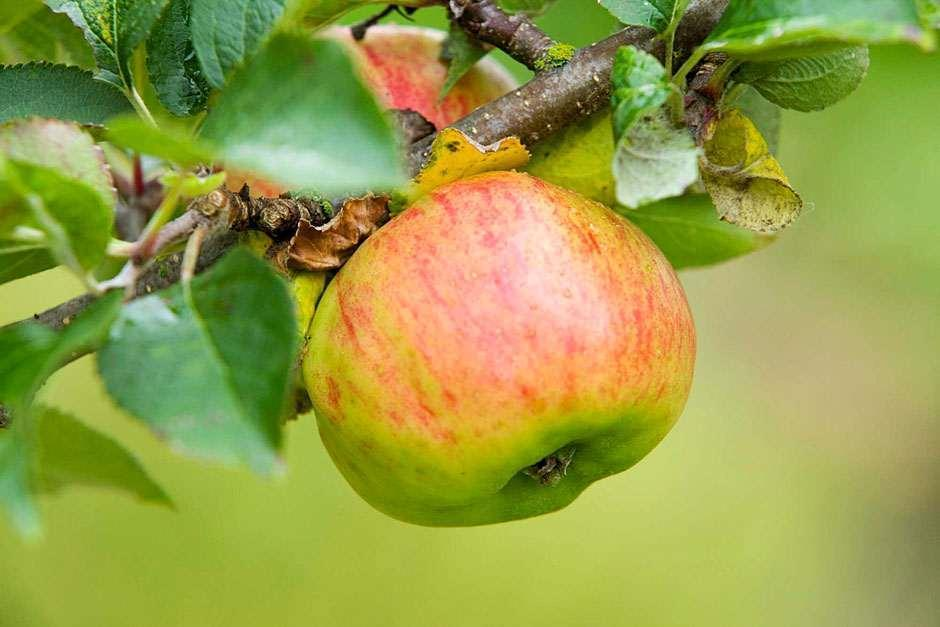apple: (300, 163, 703, 530)
